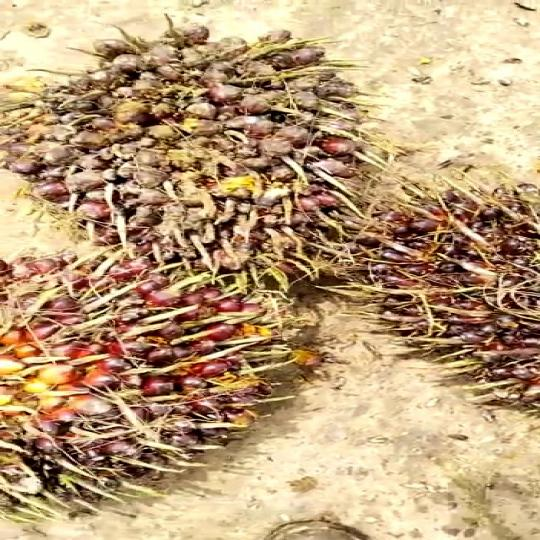kurang masak: (0, 12, 356, 305), (0, 251, 324, 482), (381, 183, 540, 403)
